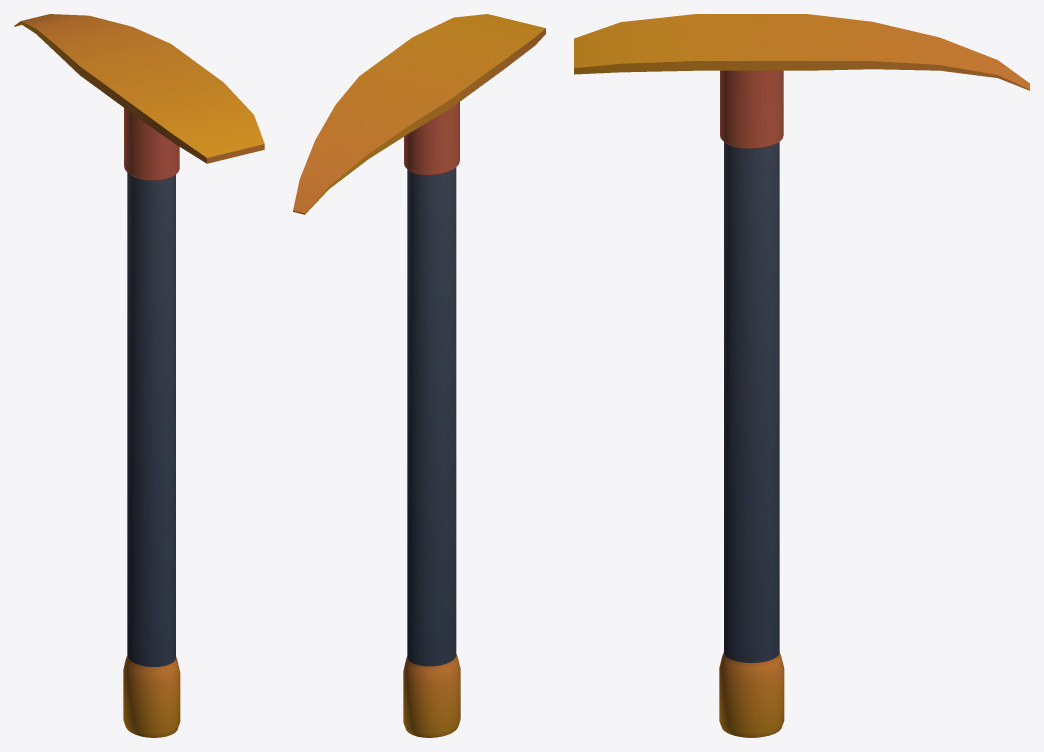
File: 2pickaxe.fbx
3 renders of one model, left to right at view 1: azimuth 30°, elevation 25°; view 2: azimuth 150°, elevation 25°; view 3: azimuth 270°, elevation 25°, orthographic. The views are drawn at different scales.
Visible parts, largest first — view 1: pickaxe2; view 2: pickaxe2; view 3: pickaxe2.
Part boxes in pixels (left/top/right/bottom): pickaxe2: left=14, top=14, right=264, bottom=737; pickaxe2: left=293, top=14, right=545, bottom=737; pickaxe2: left=574, top=14, right=1029, bottom=737.
Bounding box in the file's own units: 0.2785 × 1.91 × 1.14.
